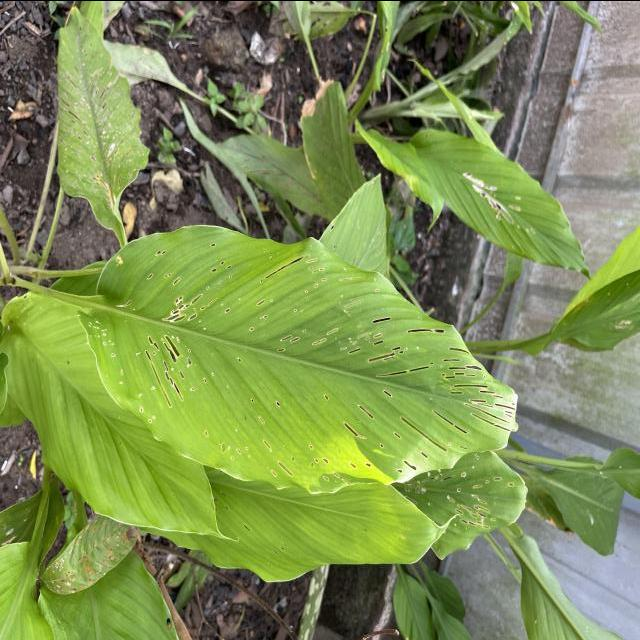Curcuma longa: (75, 218, 520, 494), (2, 287, 243, 545), (206, 476, 462, 583)
